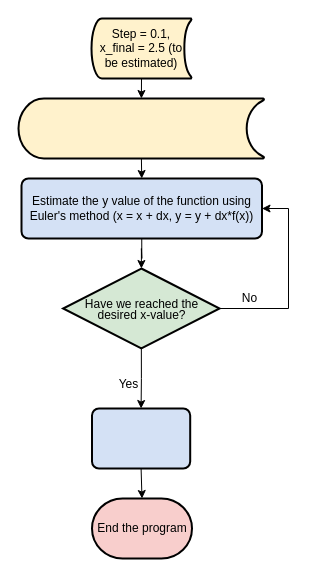
This 314x576 diagram has some shape labels left out. The shapes that lost their labels are listed below. From the top down, each one's centre as x and y in pixels, then its label:
pixel 141 128: Starting point = (1,1), set iteration tuple to starting point
pixel 140 438: Output the estimated value of the function
